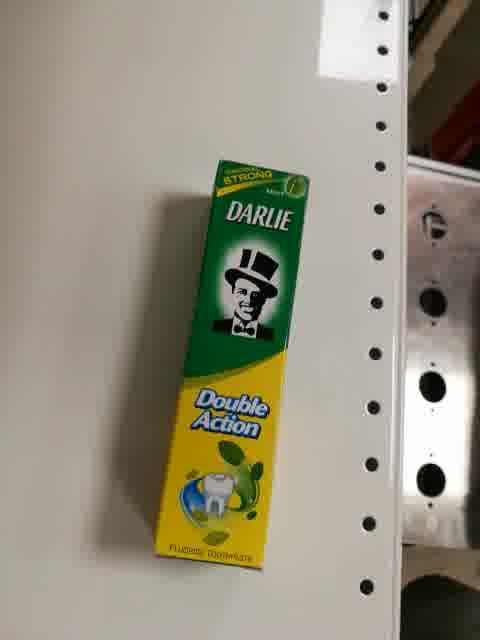toothpaste: (152, 160, 310, 575)
